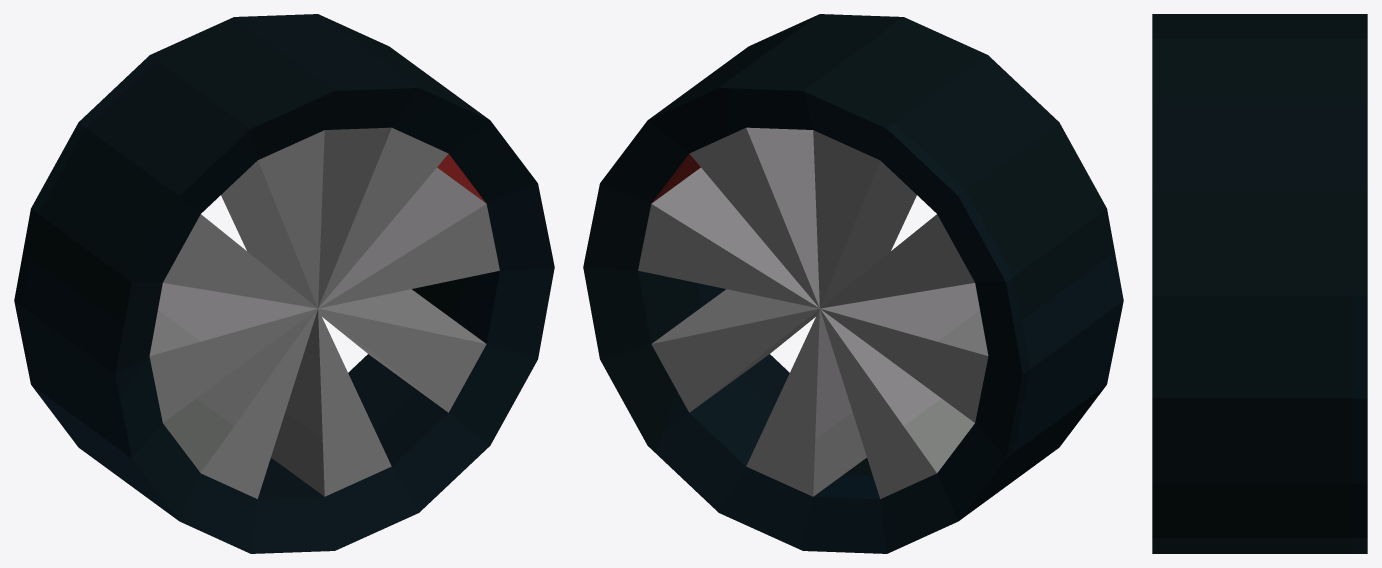
Rendered from Wheel.glb.
3 views of the same model, side by side, from view 1: azimuth 30°, elevation 25°; view 2: azimuth 150°, elevation 25°; view 3: azimuth 270°, elevation 25° (orthographic). The views are drawn at different scales.
Parts seen in each view (by area): view 1: Wheel2; view 2: Wheel2; view 3: Wheel2.
Part boxes in pixels (x1,y1,x2,y2): Wheel2: [14, 14, 554, 553]; Wheel2: [583, 14, 1123, 553]; Wheel2: [1152, 14, 1367, 553].
Size of the model in its own units: 0.5779 by 0.5779 by 0.23.
1 material, 1 textured.
